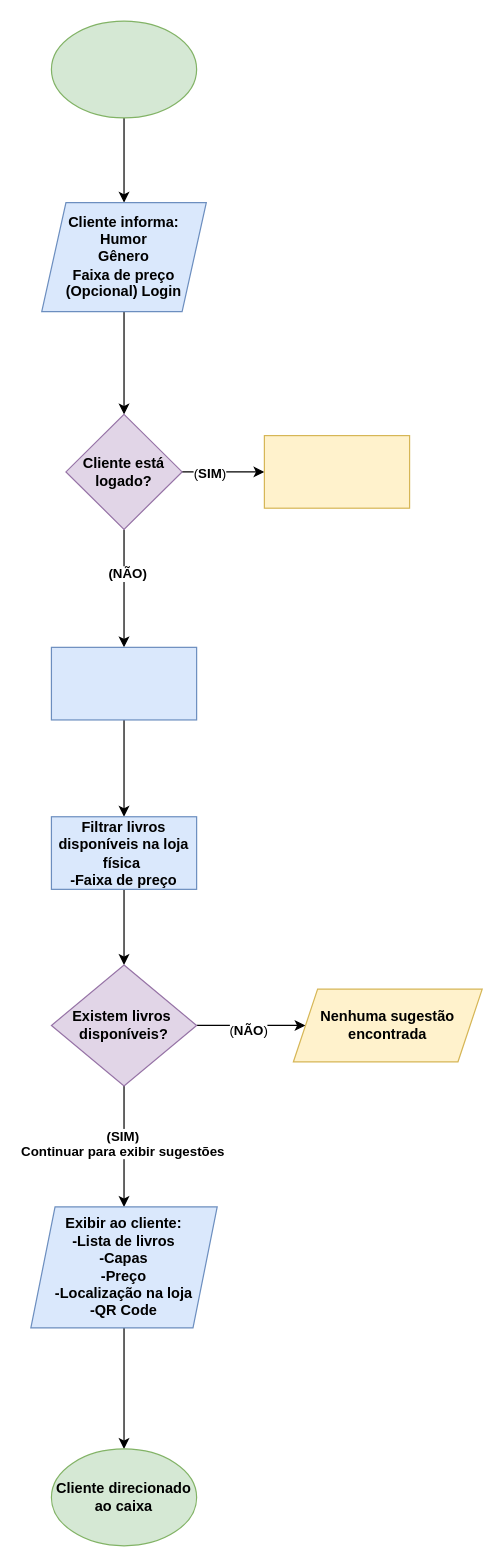
This 503x1567 diagram has some shape labels left out. Here are the shapes that lost their labels. From the top down, the box of each, then its label:
(50, 20, 197, 118): Início Cliente acessa o Totem
(263, 434, 410, 508): Buscar histórico e preferências salvas
(50, 646, 197, 720): recomendações (humor + gênero)
